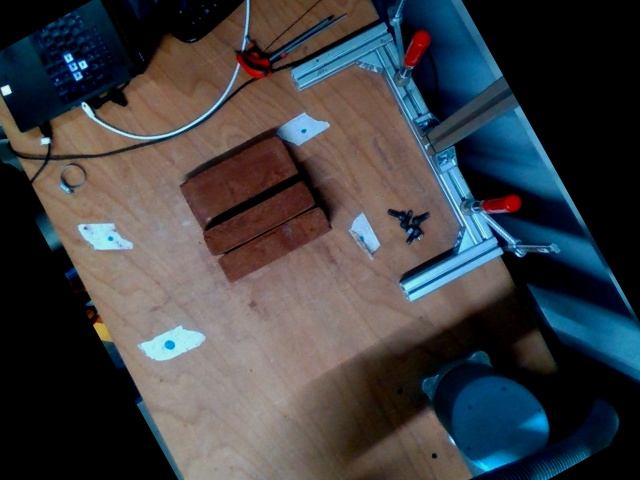brick: (178, 132, 299, 228)
brick-side: (217, 204, 332, 285), (203, 181, 316, 258)
